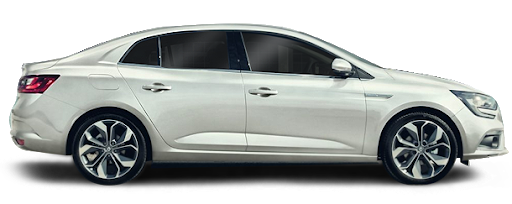car: (5, 20, 511, 191)
